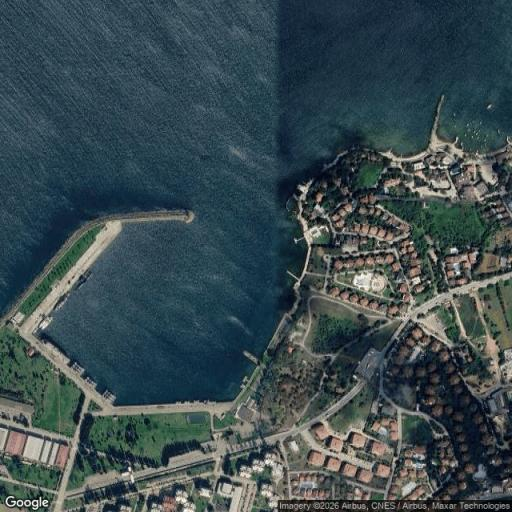ship: (453, 134, 458, 144), (496, 128, 503, 135), (487, 103, 493, 111), (484, 133, 490, 139), (451, 113, 457, 118), (453, 124, 459, 129), (458, 141, 464, 146), (466, 122, 471, 127), (472, 129, 476, 135), (482, 138, 488, 142), (480, 121, 484, 126), (462, 135, 468, 138), (479, 129, 483, 133), (475, 135, 479, 139), (471, 135, 474, 140), (465, 130, 472, 132)
